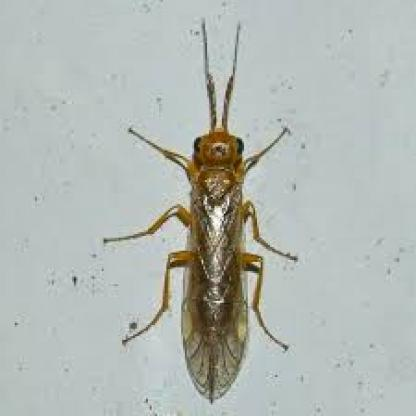sawfly: (95, 17, 305, 405)
